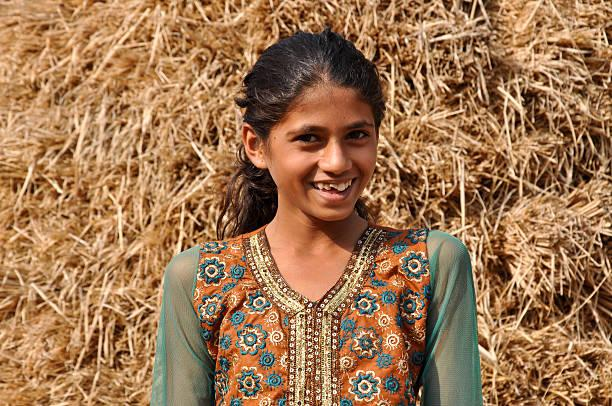Human: (142, 25, 533, 406)
